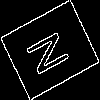N: (25, 24, 79, 78)
